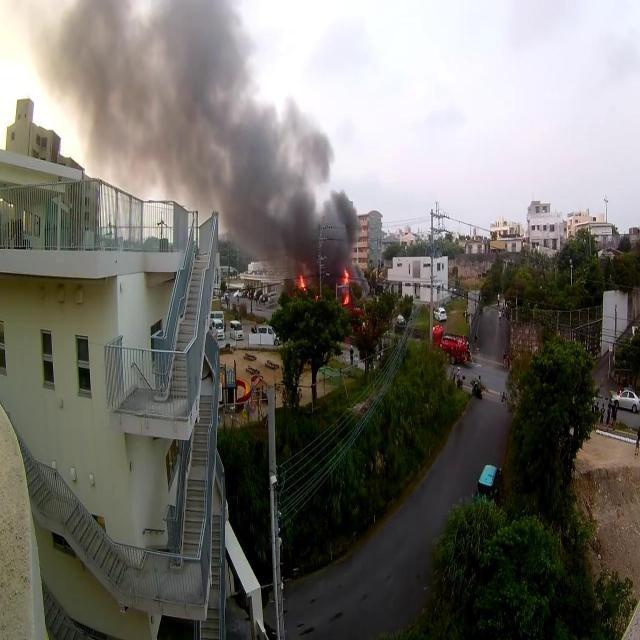Fire: (341, 266, 352, 286), (342, 292, 350, 306), (300, 276, 306, 290)
Smoke: (49, 9, 363, 271)
